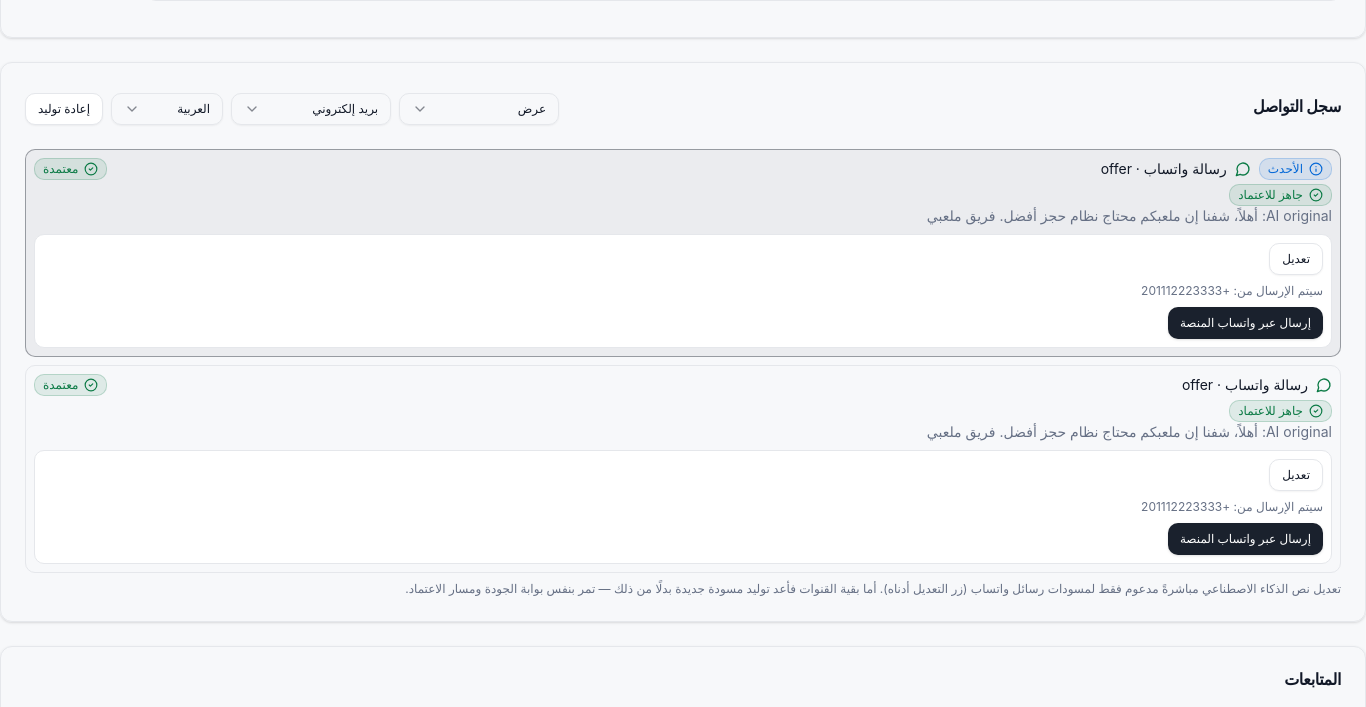
SalesLeadDetailPage — whatsapp_message Send workflow (Platform WhatsApp) › does not disable a sibling approved whatsapp_message draft's Send button while a different draft is being sent
The image size is (1366, 707).
(page scrolled)
What coordinates should you click on to do the following:
click the button "إرسال عبر واتساب المنصة" below "الأحدث"
I would click on:
 (1245, 323)
Its box is [1168,307,1323,339].
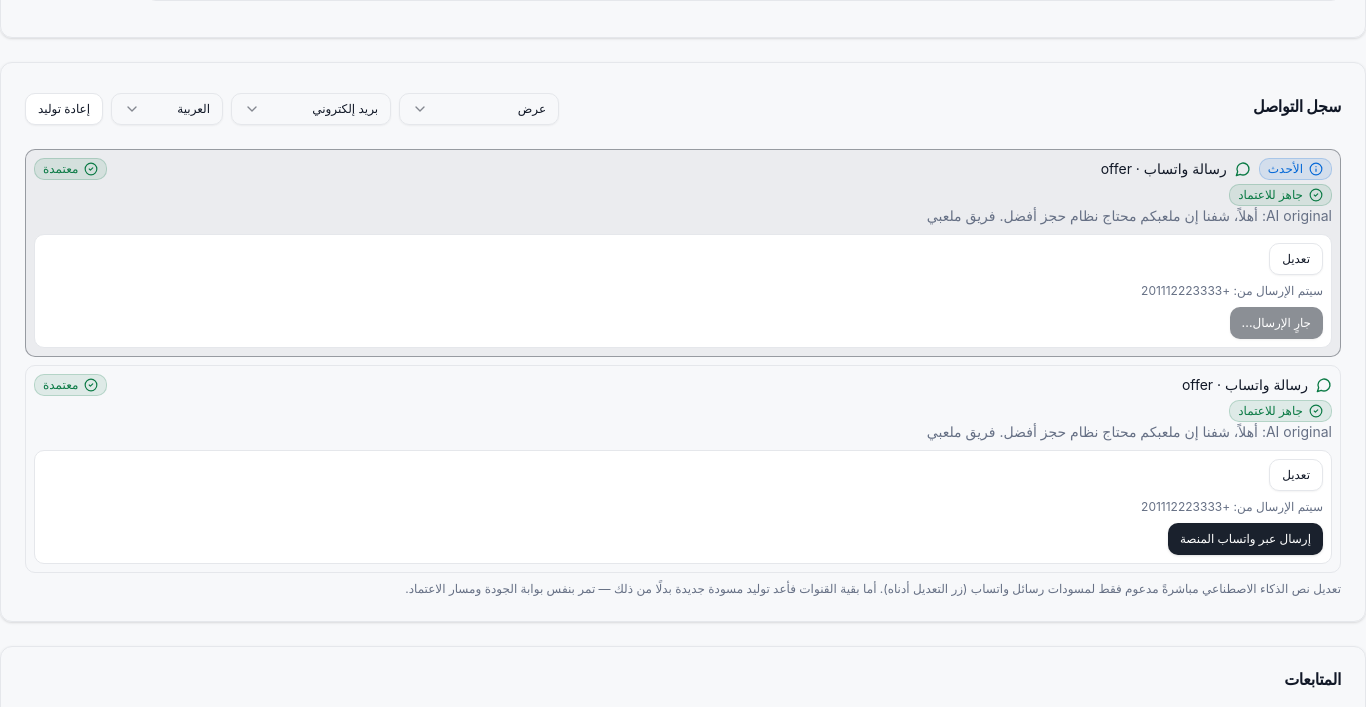
Check: the button "إرسال عبر واتساب المنصة" is enabled, box [1168,523,1323,555]
Check: the button "جارٍ الإرسال..." is shown, box [1230,307,1323,339]
